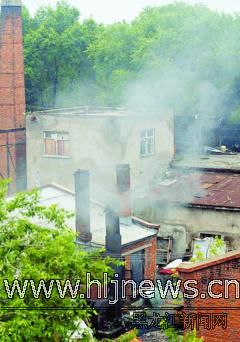dust: (89, 100, 170, 168), (70, 144, 134, 217)
